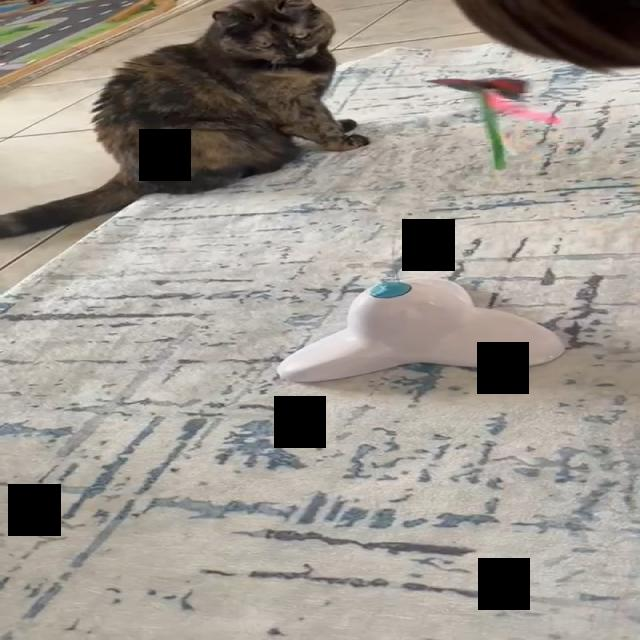authorized: (0, 0, 369, 239)
